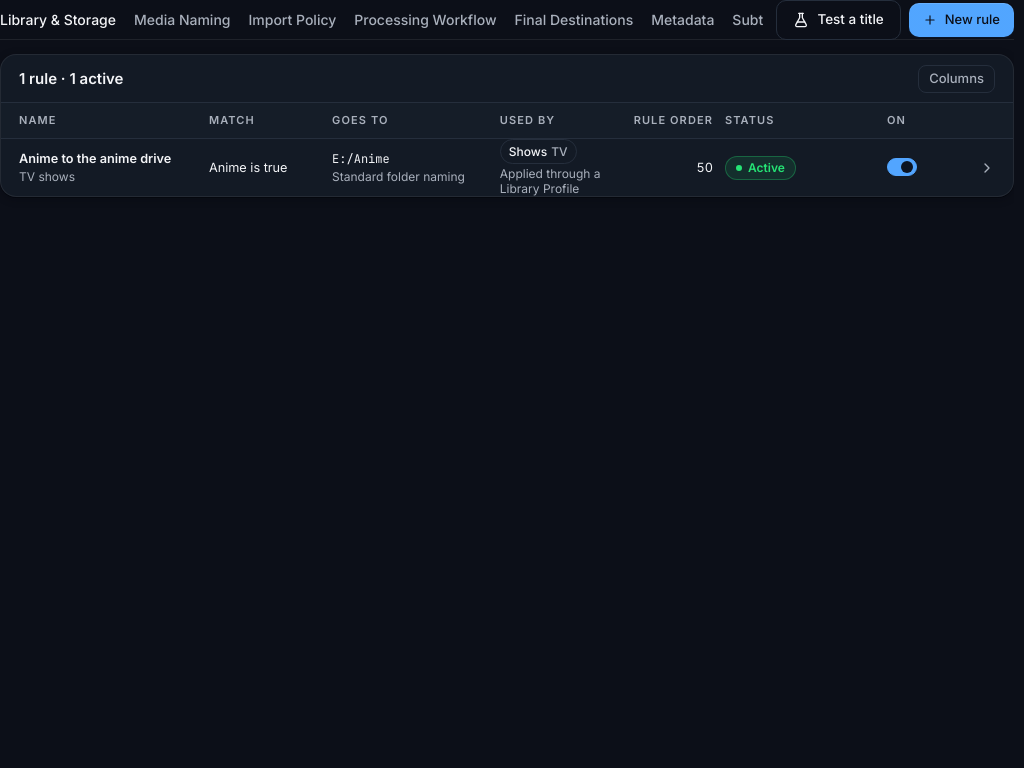
an existing rule › Save rule puts the changed rule at its own id and says Saved just now
This screenshot has width=1024, height=768.
Step 1. Click the text "Anime to the anime drive" → (108, 159), box [19,151,197,167]
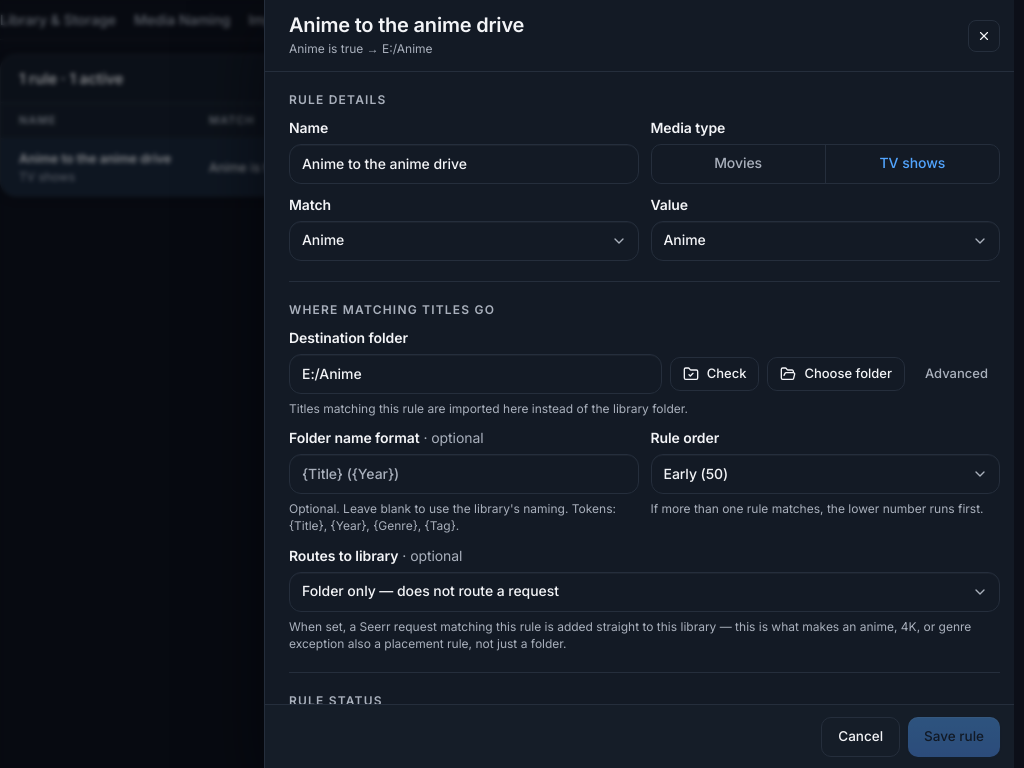
Step 2. Replace the text in the field labelled "Name" with "Anime elsewhere" → (464, 164), box [289,144,638,184]
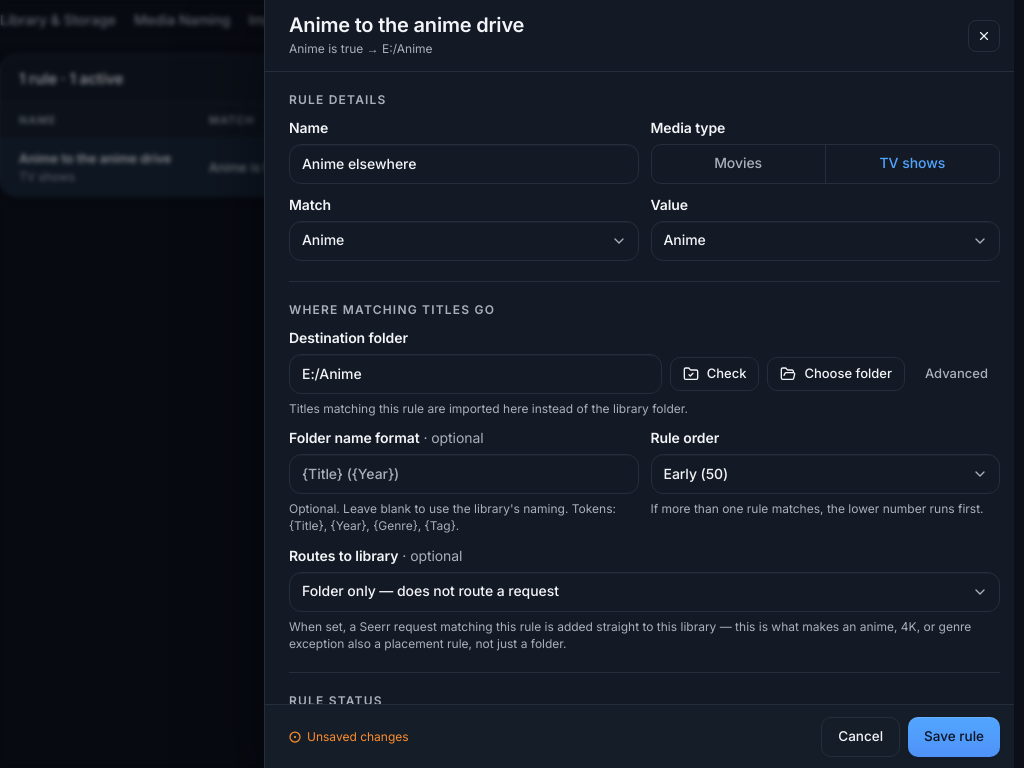
Step 3. Click the button "Save rule" → (954, 736), box [908,716,1000,756]
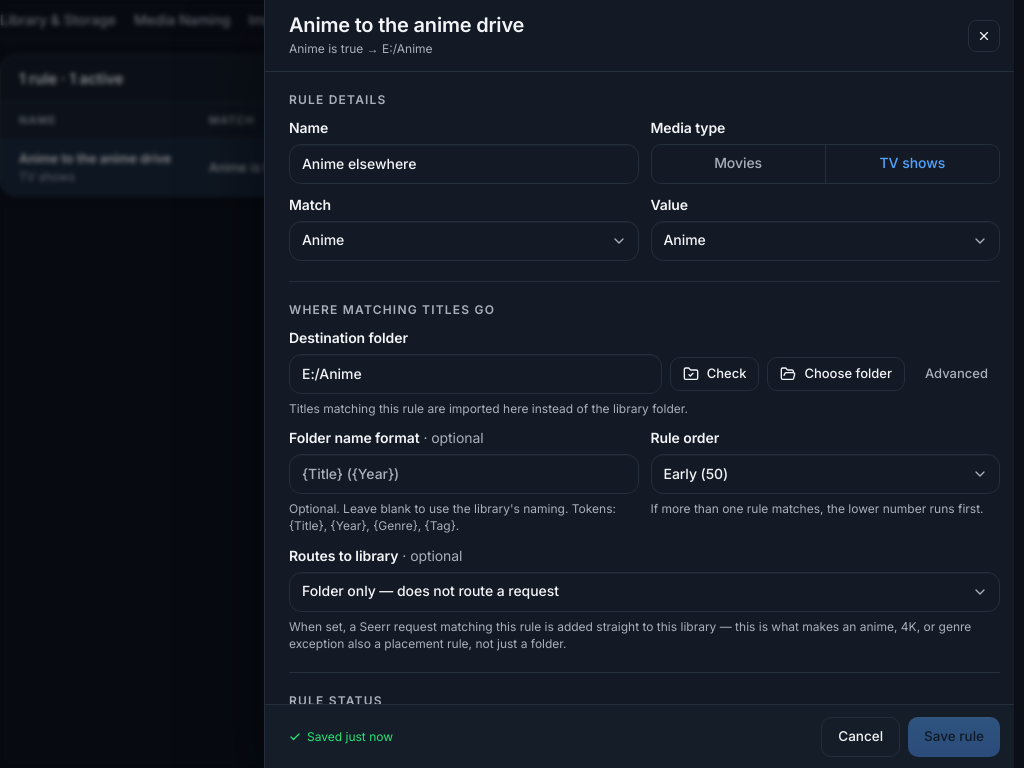
Now the text "Saved just now" is shown, box [307,728,393,746]
